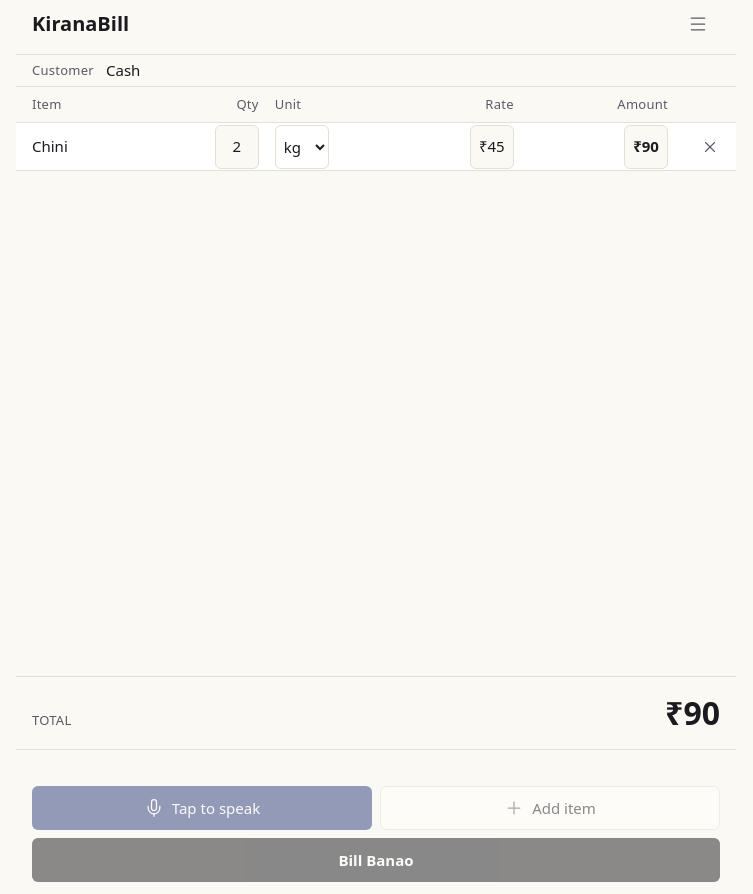
Test: KB-303 - editing a line › bad input: the message shows, the field stays open, nothing changes; Escape cancels
Click the button named "Chini quantity". click: (237, 146)
box: [215,124,259,168]
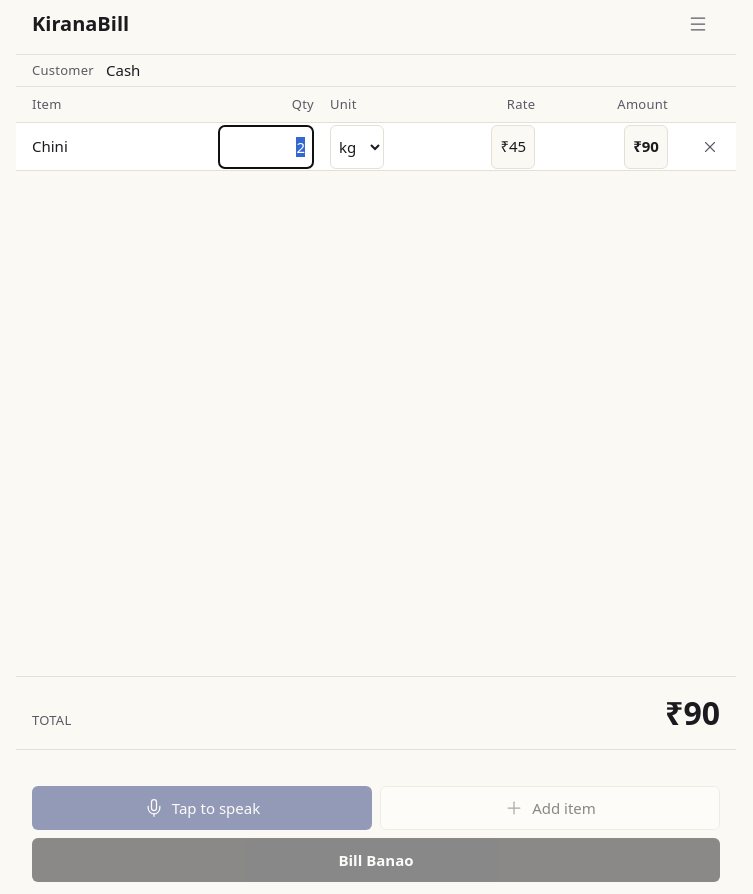
Replace the text in the field named "Chini quantity" with "2.1255". click: (266, 146)
box: [218,124,314,168]
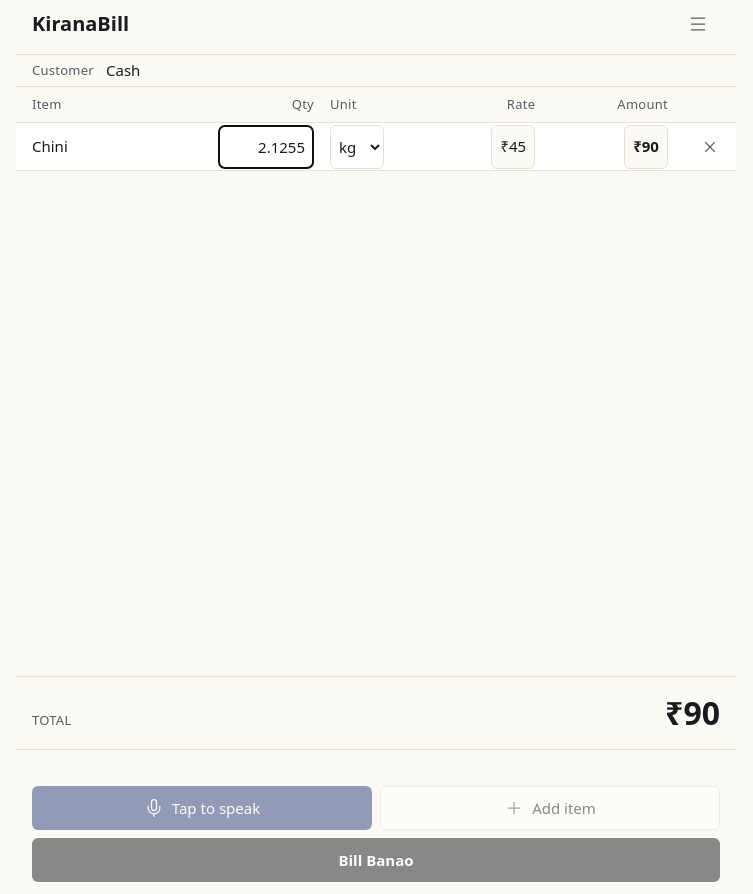
Press Enter in the field named "Chini quantity", box [218,124,314,168]
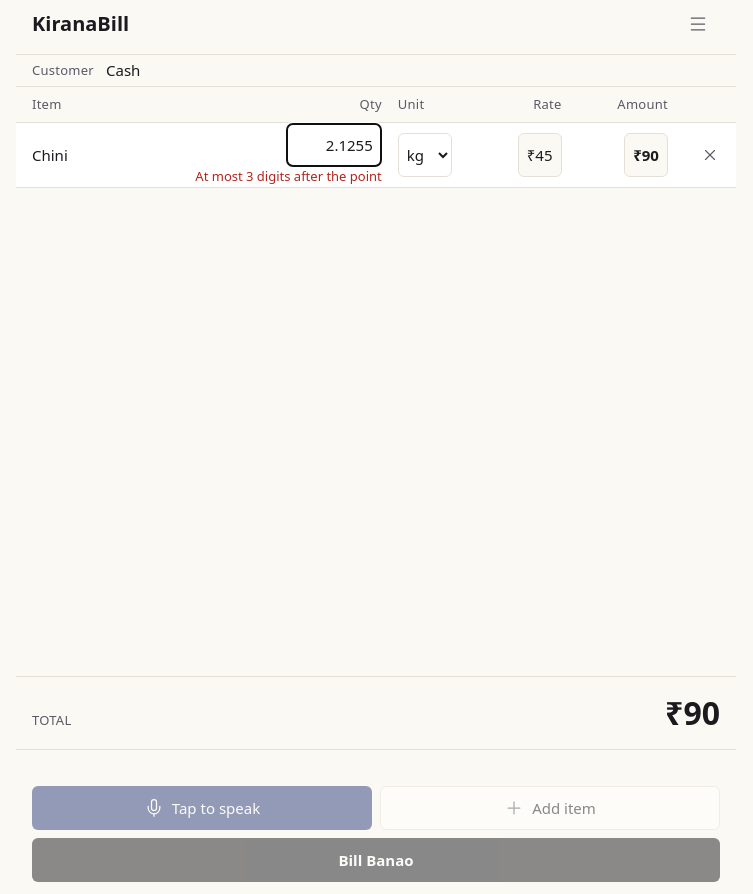
Check: the message reads "At most 3 digits after the point", box [195,167,382,185]
Press Escape in the field named "Chini quantity", box [286,123,382,167]
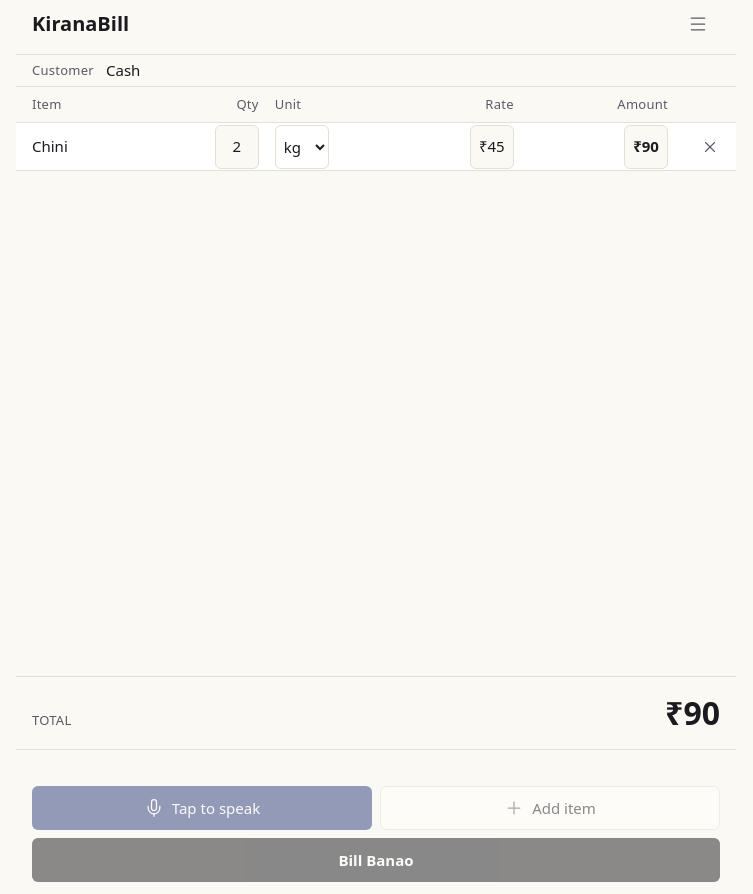
Check: the button named "Chini quantity" reads "2", box [215,124,259,168]
Check: the message "At most 3 digits after the point" is gone
